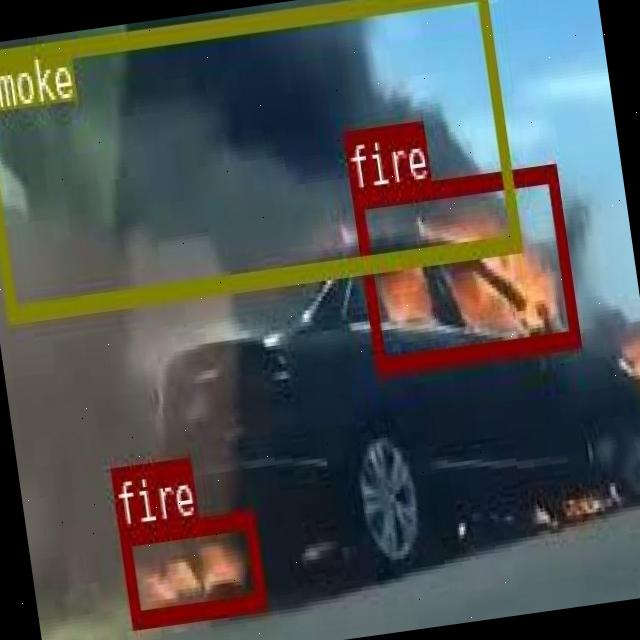fire: (350, 163, 580, 372), (118, 509, 264, 626)
smoke: (0, 0, 521, 318)
